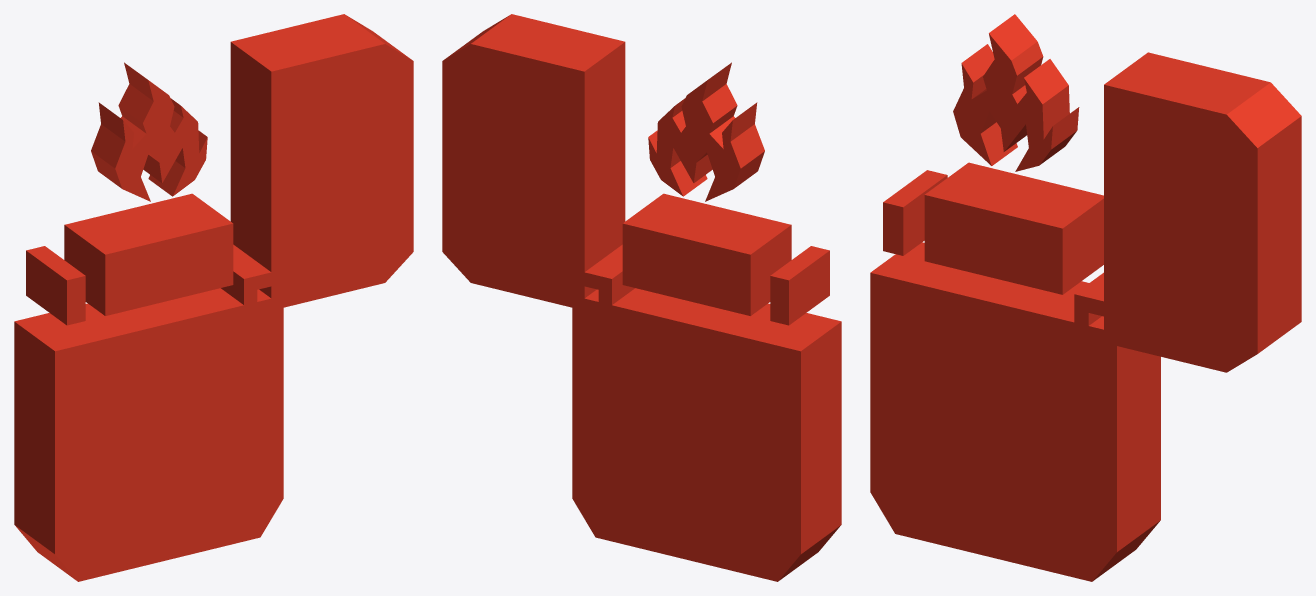
Rendered from Icon_Lighter.fbx.
3 views of the same model, side by side, from view 1: azimuth 30°, elevation 25°; view 2: azimuth 150°, elevation 25°; view 3: azimuth 330°, elevation 25° (orthographic). The views are drawn at different scales.
Parts seen in each view (by area): view 1: Icon_Lighter; view 2: Icon_Lighter; view 3: Icon_Lighter.
Boxes of the visible parts, x1=… form: Icon_Lighter: x1=14, y1=14, x2=413, y2=581; Icon_Lighter: x1=442, y1=14, x2=841, y2=581; Icon_Lighter: x1=870, y1=14, x2=1301, y2=581.
Bounding box in the file's own units: 61.1 × 77.61 × 12.06.
